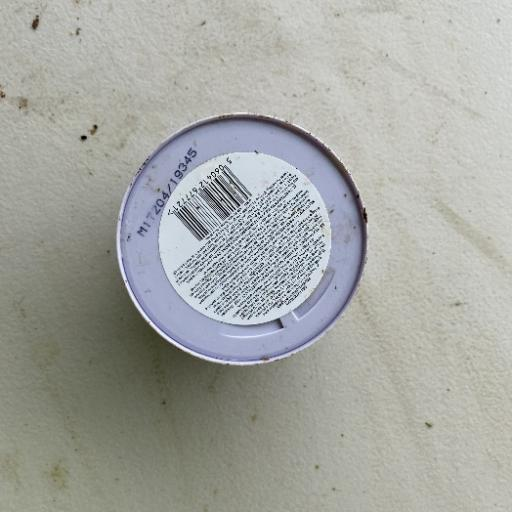Metal: (114, 110, 370, 368)
